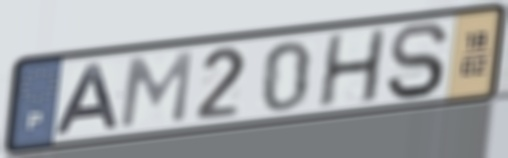0: (261, 38, 316, 113)
2: (192, 44, 249, 122)
A: (52, 61, 123, 137)
H: (314, 25, 389, 110)
M: (116, 49, 197, 131)
S: (383, 19, 452, 102)
